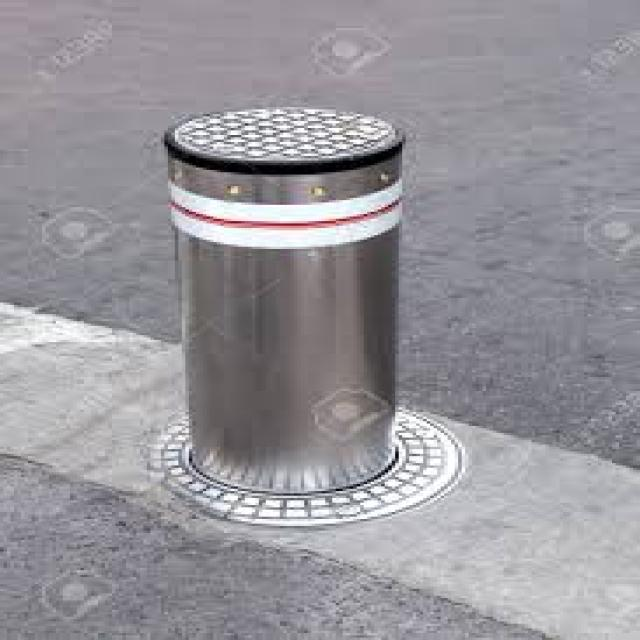bollard: (128, 98, 462, 510)
